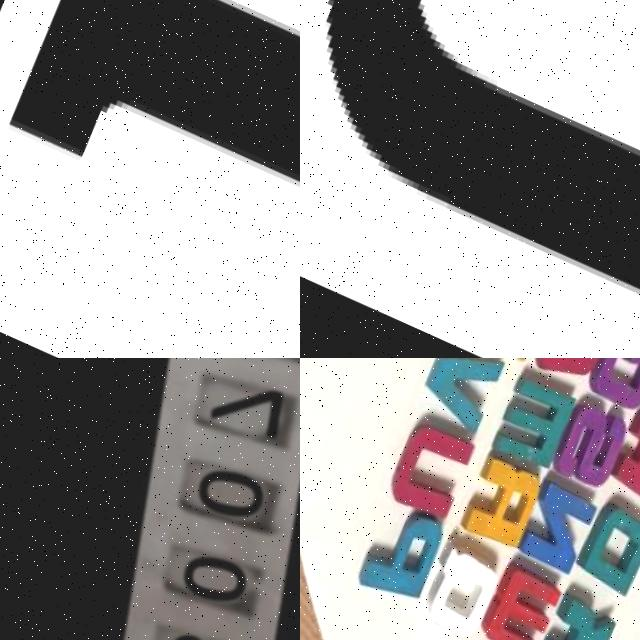0: (164, 446, 285, 553), (149, 533, 269, 636)
3: (137, 610, 253, 640)
7: (174, 358, 300, 470)
A: (604, 409, 640, 502)
D: (567, 497, 640, 595)
G: (581, 358, 640, 405)
I: (5, 0, 300, 191)
K: (529, 591, 615, 640)
M: (480, 371, 577, 475)
N: (502, 469, 603, 580)
O: (518, 358, 616, 389)
P: (351, 500, 447, 606)
Q: (402, 541, 503, 640)
R: (448, 450, 547, 559)
S: (540, 389, 634, 490)
U: (300, 0, 640, 358), (380, 414, 479, 523)
V: (406, 358, 502, 432)
W: (461, 555, 564, 640)
